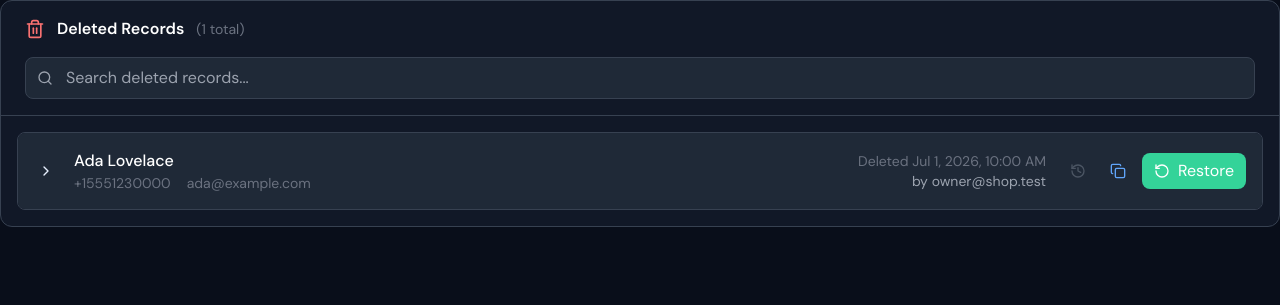
Test: DeletedRecordsPanel a11y › expand toggle reports aria-expanded state
The image size is (1280, 305).
expect the text "Ada Lovelace" is shown: met, box [74,150,174,171]
Click the button named "Show last known data for Ada Lovelace": (46, 171) [34,159,58,183]
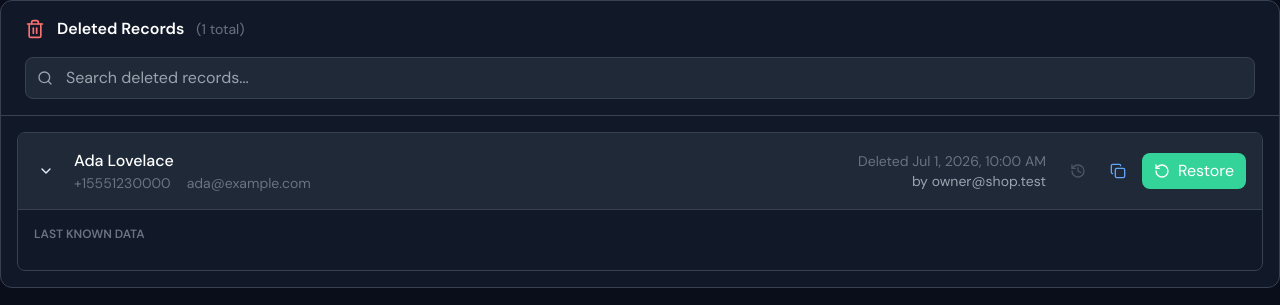
expect the button named "Hide last known data for Ada Lovelace" is expanded: met, box [34,159,58,183]
